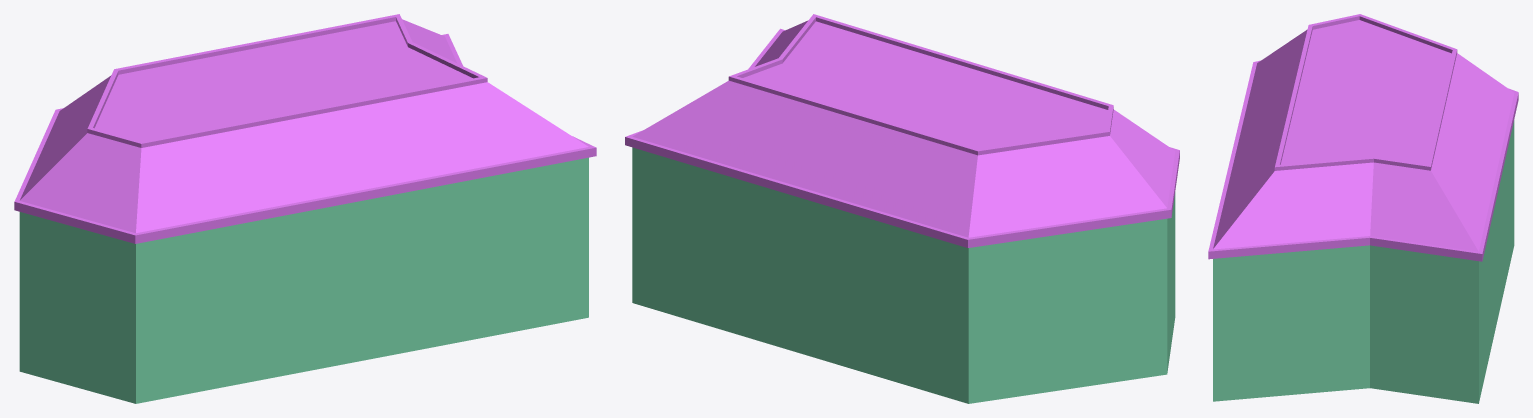
The model's file is Batiment22.fbx.
The picture shows the model from 3 angles, left to right: view 1: azimuth 30°, elevation 25°; view 2: azimuth 150°, elevation 25°; view 3: azimuth 270°, elevation 25°; orthographic projection. The views are drawn at different scales.
Parts seen in each view (by area): view 1: Batiment22; view 2: Batiment22; view 3: Batiment22.
Part boxes in pixels (x1=…): Batiment22: x1=14, y1=14, x2=596, y2=403; Batiment22: x1=625, y1=14, x2=1179, y2=403; Batiment22: x1=1208, y1=14, x2=1518, y2=403.
Bounding box in the file's own units: 74.6 × 33.03 × 45.21.
